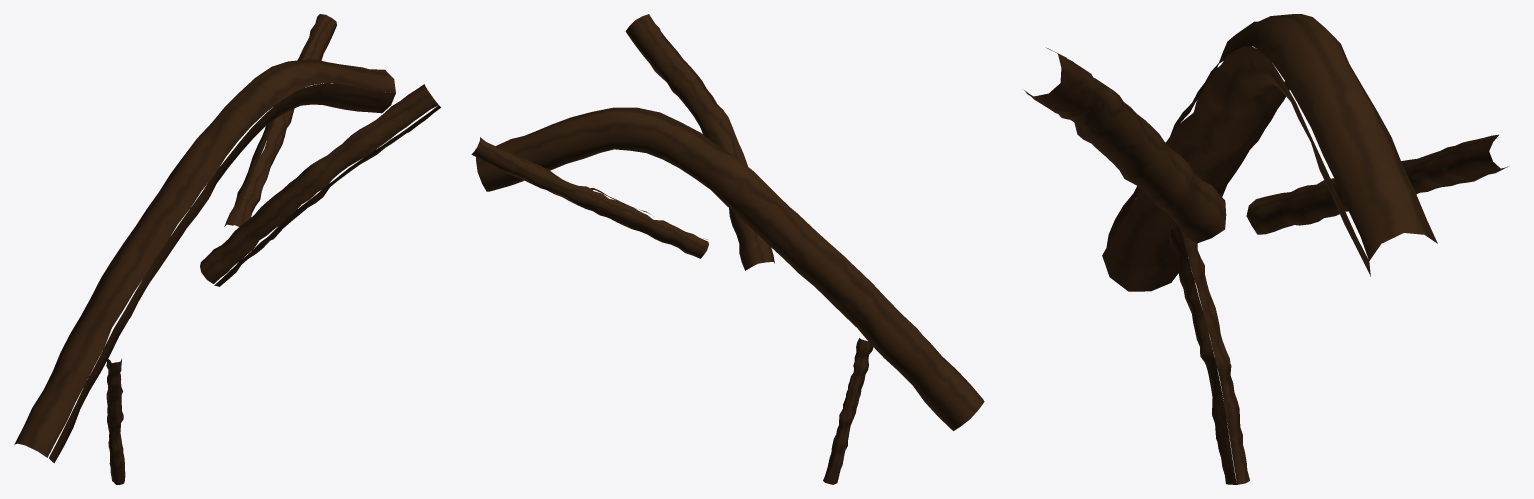
File: driftwood-hero.glb
The picture shows the model from 3 angles, left to right: view 1: azimuth 30°, elevation 25°; view 2: azimuth 150°, elevation 25°; view 3: azimuth 270°, elevation 25°; orthographic projection. The views are drawn at different scales.
Parts seen in each view (by area): view 1: mesh_0, mesh_1, mesh_2, mesh_3; view 2: mesh_0, mesh_1, mesh_2, mesh_3; view 3: mesh_0, mesh_1, mesh_2, mesh_3.
Part boxes in pixels (x1=…): mesh_0: x1=14, y1=59, x2=395, y2=463; mesh_1: x1=200, y1=84, x2=440, y2=286; mesh_2: x1=224, y1=14, x2=336, y2=226; mesh_3: x1=106, y1=358, x2=125, y2=484; mesh_0: x1=476, y1=107, x2=984, y2=430; mesh_1: x1=625, y1=14, x2=774, y2=270; mesh_2: x1=471, y1=137, x2=708, y2=258; mesh_3: x1=823, y1=338, x2=873, y2=484; mesh_0: x1=1102, y1=14, x2=1437, y2=291; mesh_1: x1=1024, y1=47, x2=1226, y2=243; mesh_2: x1=1246, y1=134, x2=1508, y2=234; mesh_3: x1=1169, y1=229, x2=1249, y2=484.
Size of the model in its own units: 4.33 by 3.52 by 2.5.
4 materials, 4 textured.
